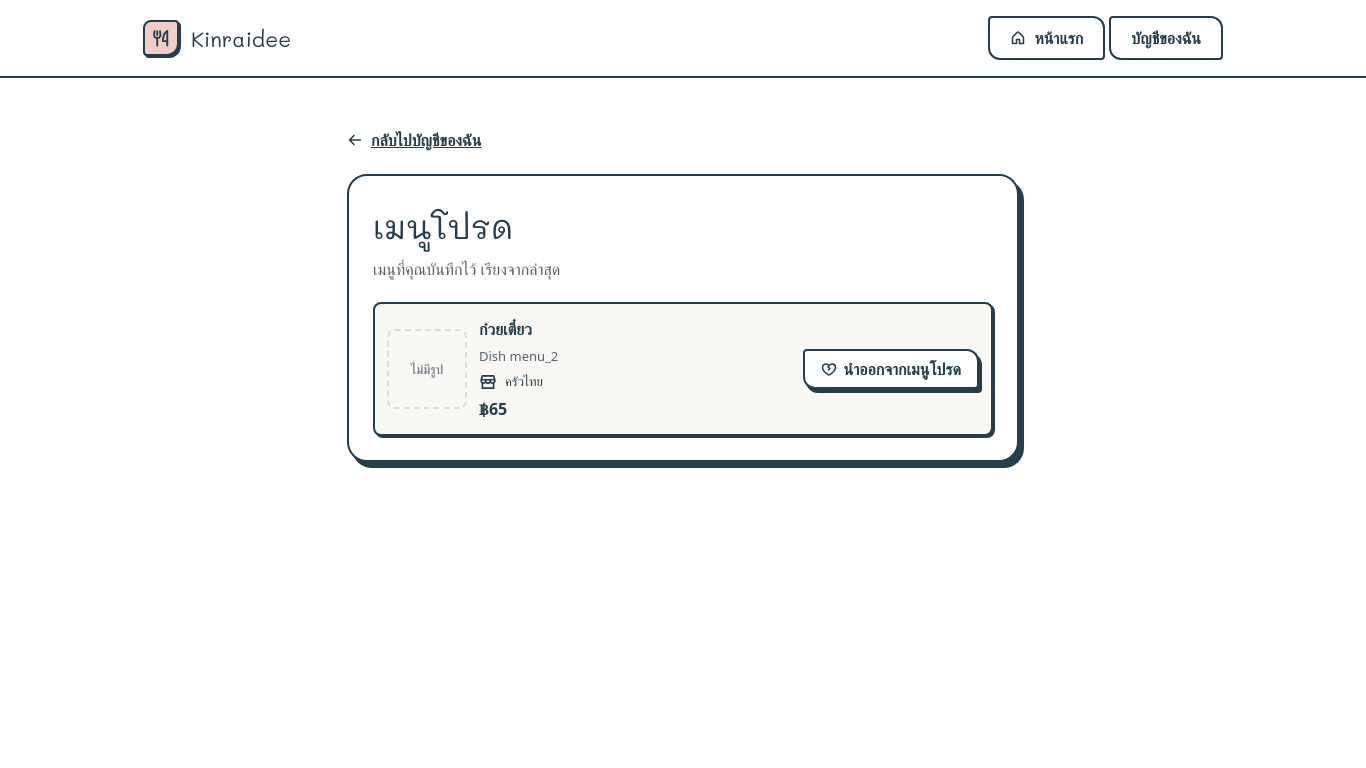
Test case: FavoritesPage › explains a failed removal and keeps the row
Expected: the list named "รายการเมนูโปรด" is shown, top-left (373, 302), bottom-right (993, 436)
Click the button "นำออกจากเมนูโปรด".
click(891, 369)  # box top-left (804, 349), bottom-right (979, 389)
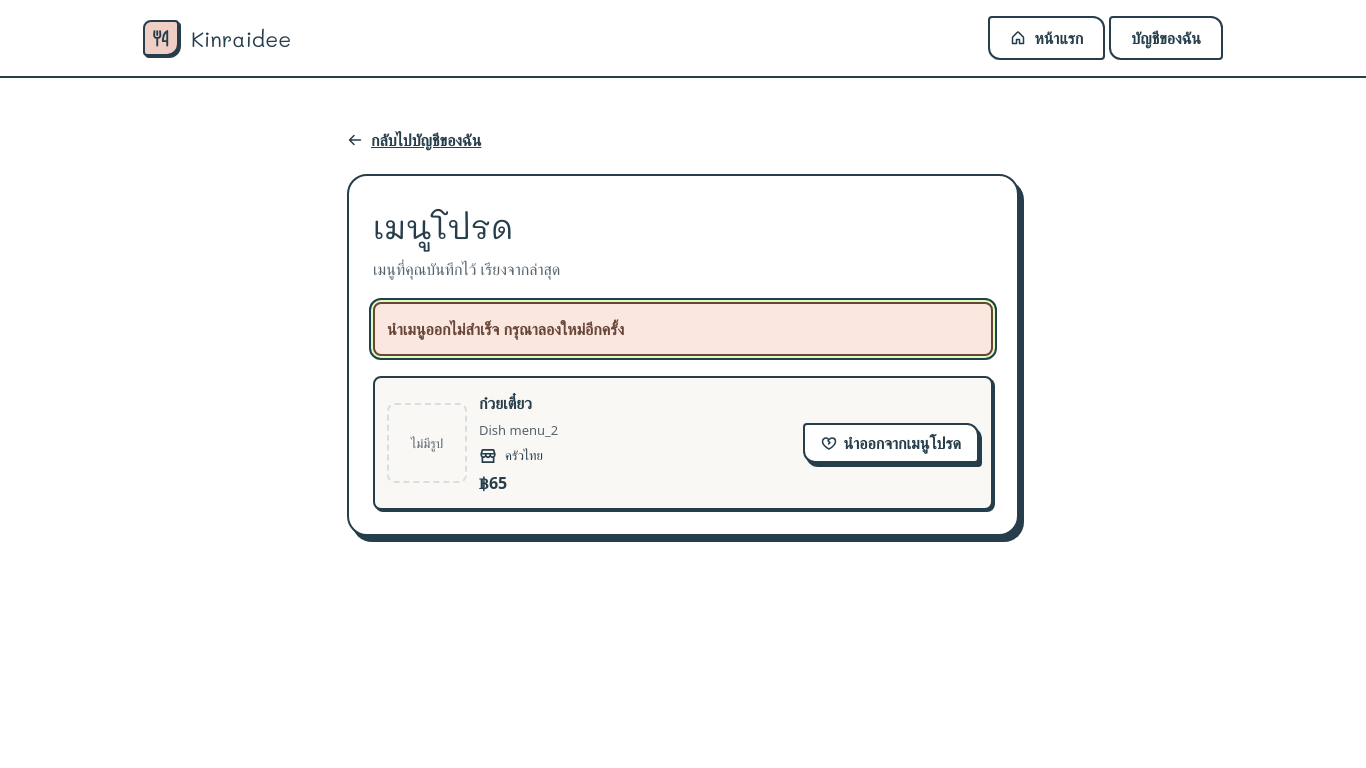
Expected: the number of list items is 1, top-left (373, 376), bottom-right (993, 510)
Expected: the message reads "นำเมนูออกไม่สำเร็จ กรุณาลองใหม่อีกครั้ง", top-left (387, 318), bottom-right (624, 340)
